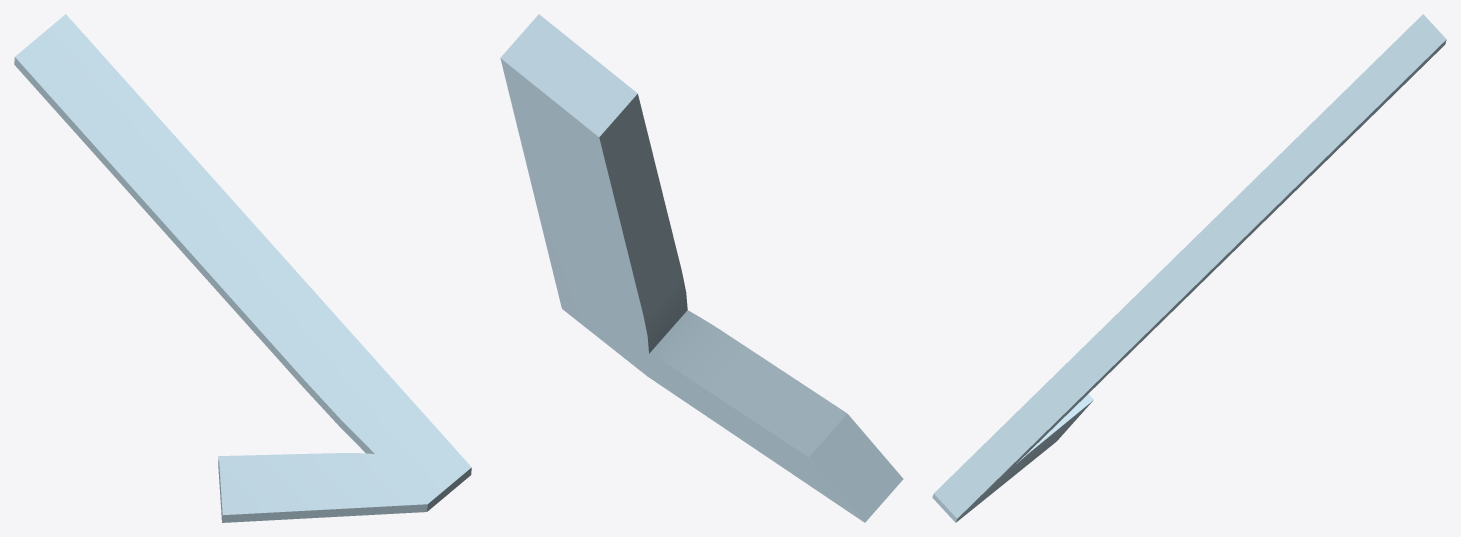
The model's file is Number_1.gltf.
3 views of the same model, side by side, from view 1: azimuth 30°, elevation 25°; view 2: azimuth 150°, elevation 25°; view 3: azimuth 270°, elevation 25° (orthographic). The views are drawn at different scales.
Visible parts, largest first — view 1: Sub_6_Cell_2_2_Number_1; view 2: Sub_6_Cell_2_2_Number_1; view 3: Sub_6_Cell_2_2_Number_1.
Part boxes in pixels (<box>): Sub_6_Cell_2_2_Number_1: <box>14,14,471,522</box>; Sub_6_Cell_2_2_Number_1: <box>500,14,903,522</box>; Sub_6_Cell_2_2_Number_1: <box>932,14,1446,522</box>.
Bounding box in the file's own units: 0.0117 × 0.0175 × 0.0189.
